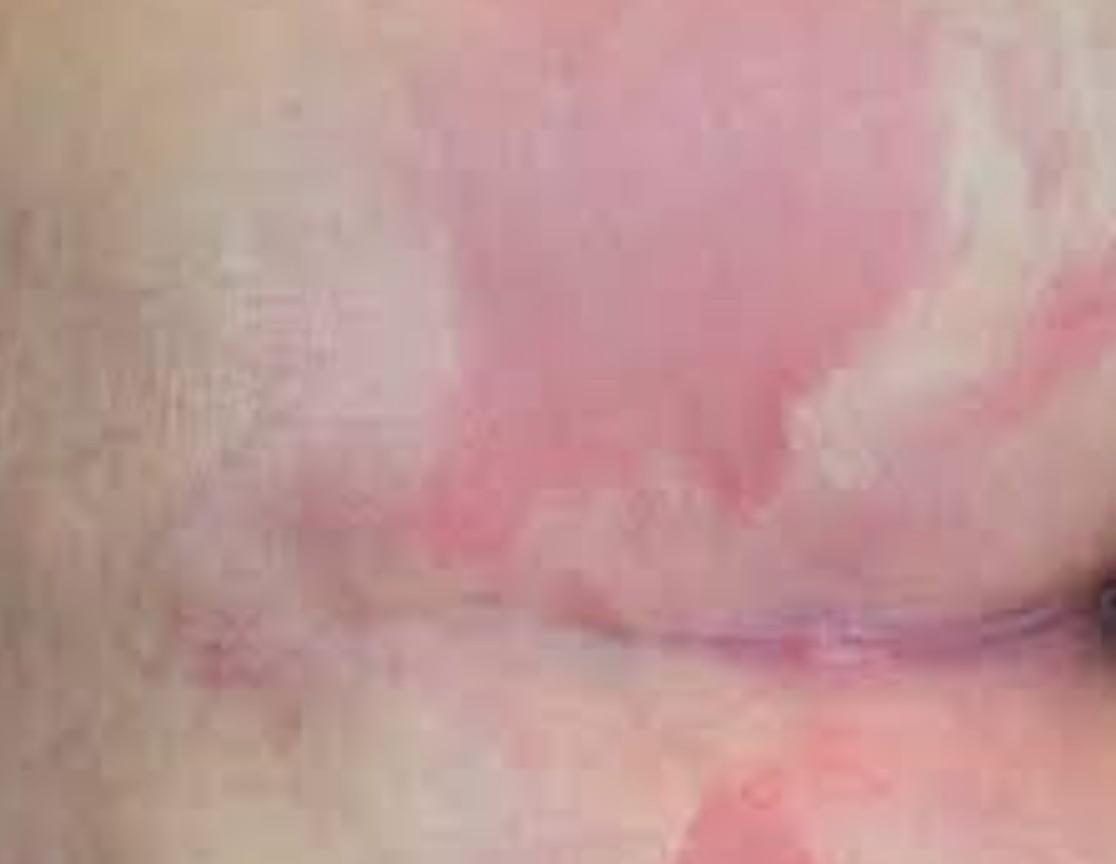Stage1: (211, 36, 1116, 864)
